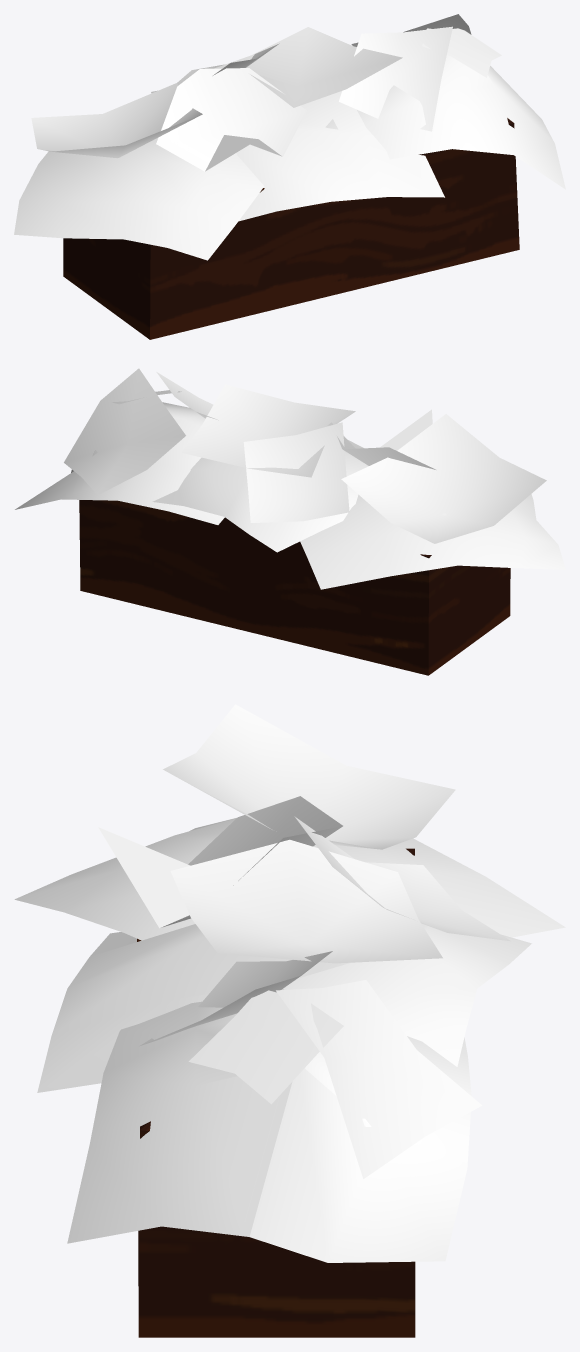
The model's file is SM_PROP_PLANT_pot_v1_02.fbx.
3 renders of one model, top to bottom at view 1: azimuth 30°, elevation 25°; view 2: azimuth 150°, elevation 25°; view 3: azimuth 270°, elevation 25°, orthographic. The views are drawn at different scales.
Parts seen in each view (by area): view 1: SM_PROP_PLANT_pot_v1_02; view 2: SM_PROP_PLANT_pot_v1_02; view 3: SM_PROP_PLANT_pot_v1_02.
Boxes of the visible parts, x1,y1,x2,y2 form: SM_PROP_PLANT_pot_v1_02: [14, 14, 565, 339]; SM_PROP_PLANT_pot_v1_02: [15, 368, 565, 675]; SM_PROP_PLANT_pot_v1_02: [14, 704, 565, 1337].
Bounding box in the file's own units: 105 × 40.04 × 59.85.
